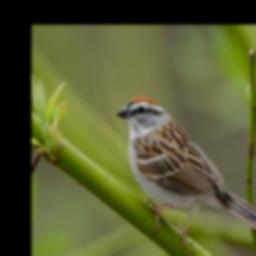Sparrow: (114, 95, 256, 252)
